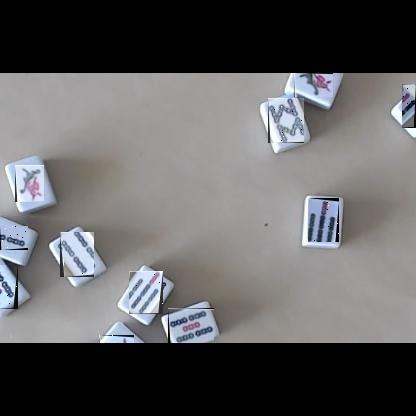1s: (15, 165, 44, 202), (294, 73, 333, 97), (99, 335, 134, 343)
2s: (0, 226, 28, 250)
4s: (60, 232, 94, 277)
5s: (168, 308, 214, 343), (0, 265, 18, 309)
7s: (129, 271, 163, 314), (308, 198, 339, 242)
8s: (268, 98, 304, 143)
9s: (402, 84, 416, 128)
